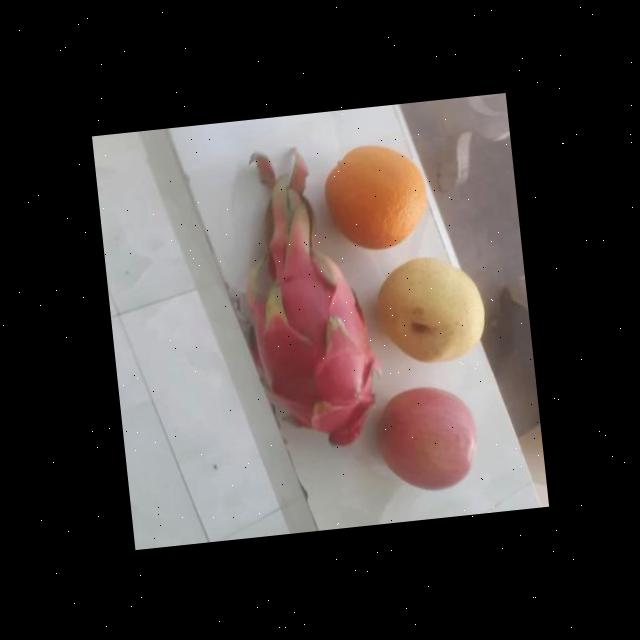apple: (376, 382, 482, 496)
orange: (318, 138, 435, 258)
pear: (369, 245, 494, 371)
pitaya: (237, 240, 389, 457)
